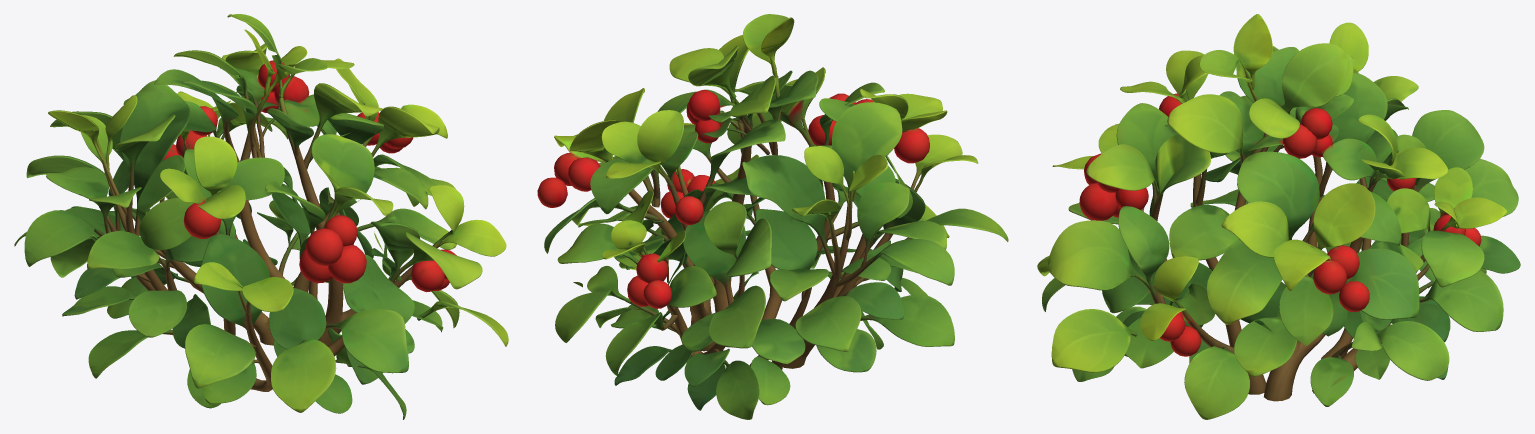
The model's file is C41_bush.fbx.
The picture shows the model from 3 angles, left to right: view 1: azimuth 30°, elevation 25°; view 2: azimuth 150°, elevation 25°; view 3: azimuth 270°, elevation 25°; orthographic projection. The views are drawn at different scales.
Visible parts, largest first — view 1: tripo_node_19166021; view 2: tripo_node_19166021; view 3: tripo_node_19166021.
Boxes of the visible parts, box(x1,y1,x2,y2) form: tripo_node_19166021: box(14, 14, 508, 419); tripo_node_19166021: box(537, 14, 1008, 419); tripo_node_19166021: box(1037, 14, 1520, 419).
Bounding box in the file's own units: 0.9692 × 0.7993 × 0.9995.
